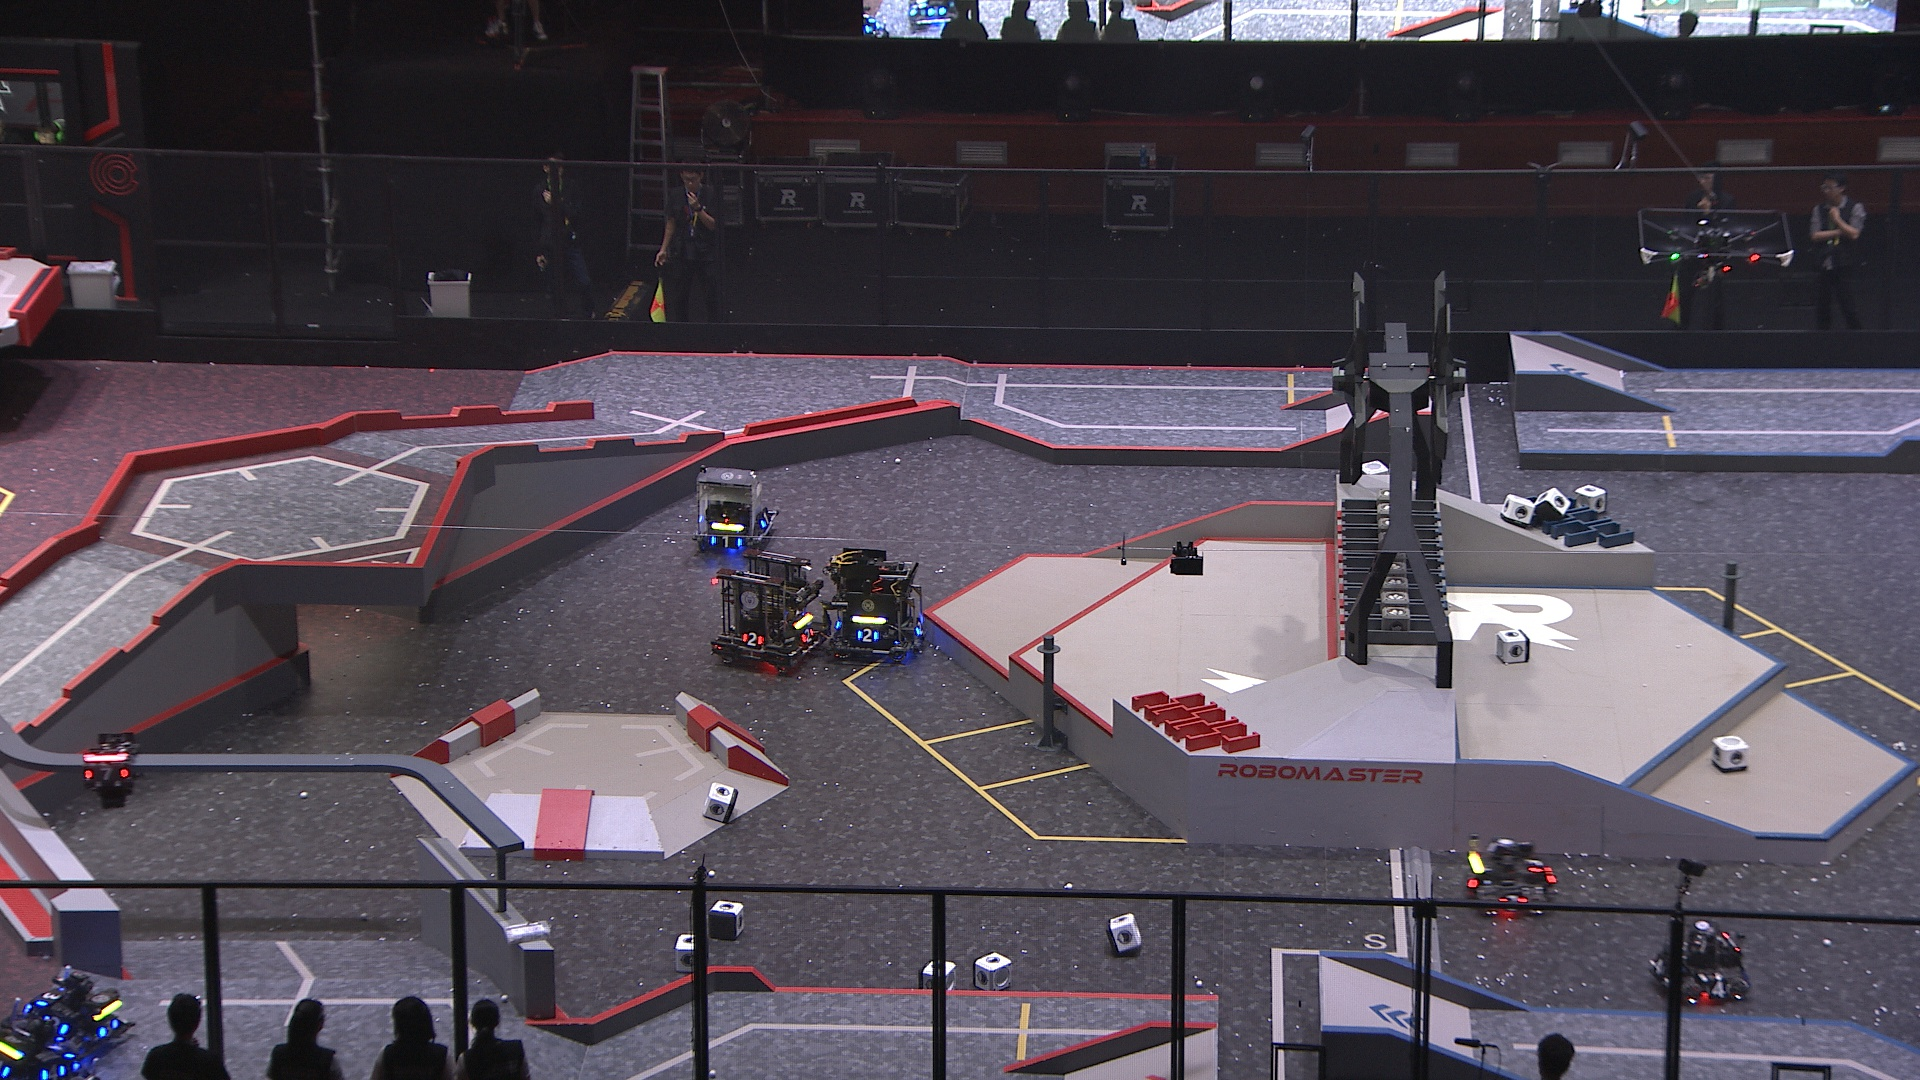armor: (84, 764, 131, 785), (707, 533, 745, 551), (98, 1015, 121, 1040), (1706, 978, 1733, 1001), (40, 1015, 67, 1036), (40, 1062, 71, 1080), (1498, 891, 1527, 911), (36, 986, 65, 1006), (1524, 855, 1549, 876), (756, 508, 774, 531), (1648, 949, 1665, 975), (855, 626, 880, 644), (740, 632, 764, 647), (798, 626, 816, 645), (913, 618, 927, 640)
car: (705, 545, 829, 673), (820, 541, 939, 659), (16, 963, 144, 1058), (1646, 916, 1754, 1007), (690, 462, 783, 559), (1462, 833, 1561, 920)
watcher: (78, 727, 145, 808)
